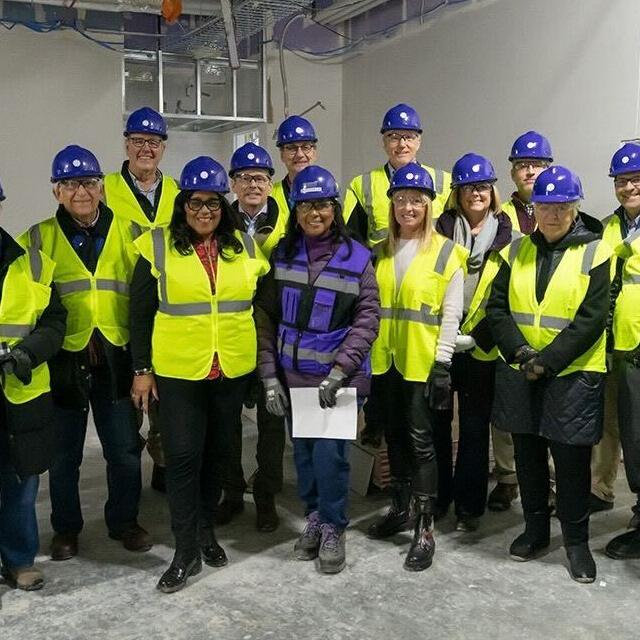Gloves: (424, 361, 452, 411), (318, 367, 347, 410), (0, 350, 33, 384), (261, 378, 289, 417), (522, 357, 555, 389), (245, 379, 262, 409), (516, 342, 538, 363), (454, 335, 476, 352), (605, 350, 615, 372)
Hardhat: (176, 155, 231, 193), (531, 165, 584, 204), (50, 145, 106, 181), (288, 165, 341, 201), (386, 162, 436, 199), (448, 152, 498, 186), (228, 141, 275, 177), (508, 129, 555, 163), (122, 106, 168, 139), (378, 103, 425, 134), (275, 115, 318, 145), (605, 141, 640, 175)
NO-Mask: (61, 193, 101, 213), (187, 210, 221, 233), (128, 150, 161, 171), (300, 215, 334, 235), (384, 145, 418, 163), (536, 217, 568, 236), (237, 187, 267, 207), (394, 209, 424, 228), (462, 195, 491, 214), (285, 154, 314, 172), (514, 174, 538, 192), (617, 191, 640, 209)
Person: (129, 153, 271, 593), (11, 141, 156, 557), (482, 166, 617, 584), (252, 167, 383, 575), (342, 103, 459, 487), (365, 161, 467, 573), (99, 107, 184, 497), (214, 140, 298, 531), (435, 151, 518, 542), (0, 158, 66, 617), (489, 130, 561, 514), (580, 137, 640, 508), (266, 116, 323, 492), (599, 141, 640, 599)
Safety Vest: (131, 222, 271, 381), (12, 208, 154, 353), (496, 232, 616, 380), (371, 234, 471, 384), (269, 236, 376, 374), (0, 227, 56, 401), (460, 225, 528, 363), (346, 162, 452, 243), (97, 172, 181, 230), (271, 177, 360, 227), (227, 196, 288, 254), (600, 205, 640, 278), (500, 201, 539, 235)
